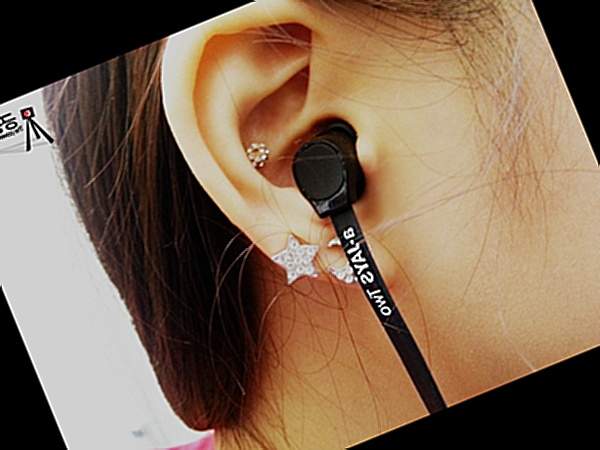earphone: (137, 0, 427, 342)
